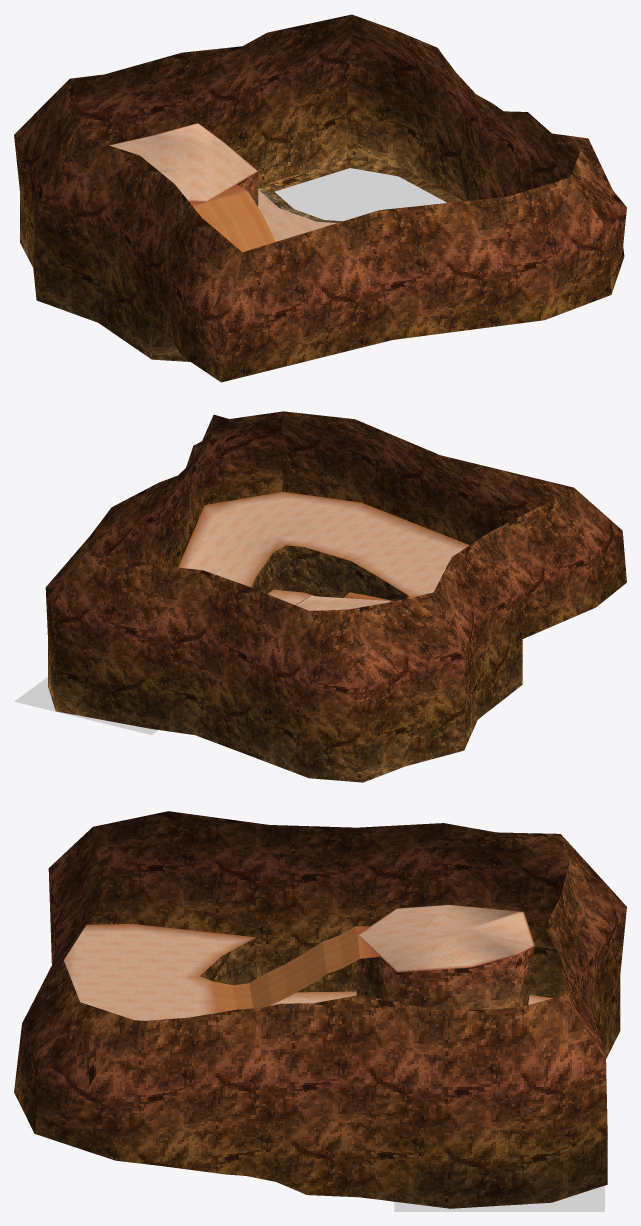
File: testarea.glb
3 renders of one model, top to bottom at view 1: azimuth 30°, elevation 25°; view 2: azimuth 150°, elevation 25°; view 3: azimuth 270°, elevation 25°, orthographic. The views are drawn at different scales.
Visible parts, largest first — view 1: Plane; view 2: Plane; view 3: Plane.
Boxes of the visible parts, left/top/right/bottom form: Plane: left=14, top=14, right=626, bottom=382; Plane: left=14, top=411, right=626, bottom=782; Plane: left=14, top=811, right=626, bottom=1211.
Bounding box in the file's own units: 80.67 × 33.2 × 88.01.
Materials: 3 (2 with a texture image).
